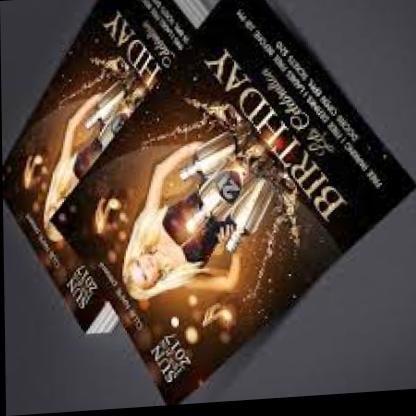Paper: (2, 0, 416, 408)
